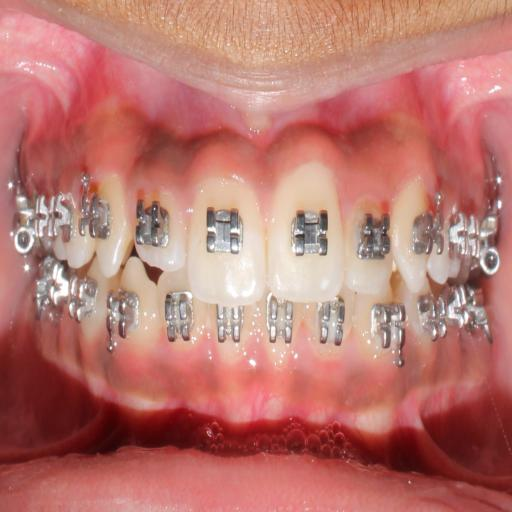correct_brace: (288, 202, 332, 258), (200, 203, 247, 254), (135, 199, 174, 253), (356, 209, 392, 264), (414, 208, 444, 260), (80, 192, 111, 239)
incorrect_brace: (342, 185, 396, 299), (134, 181, 190, 269)
